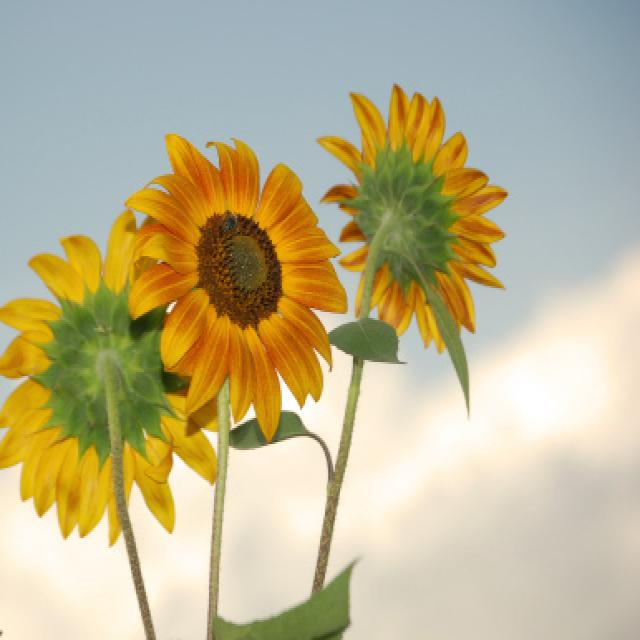sunflower: (117, 126, 352, 440), (0, 200, 199, 552), (318, 86, 511, 356)
